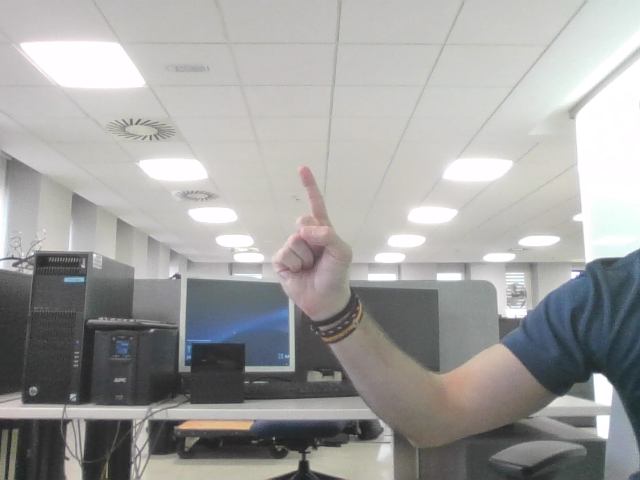1Dedo: (285, 176, 340, 275)
